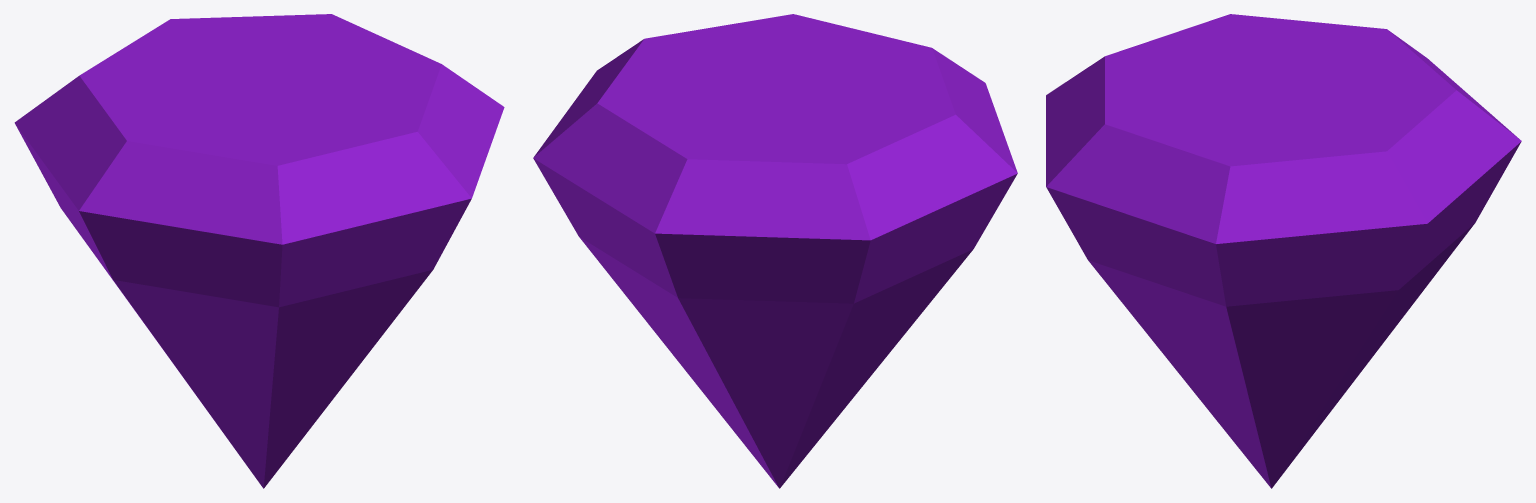
Rendered from Gem.fbx.
The picture shows the model from 3 angles, left to right: view 1: azimuth 30°, elevation 25°; view 2: azimuth 150°, elevation 25°; view 3: azimuth 270°, elevation 25°; orthographic projection.
Parts seen in each view (by area): view 1: Cone; view 2: Cone; view 3: Cone.
Boxes of the visible parts, x1,y1,x2,y2 form: Cone: [14, 14, 504, 488]; Cone: [533, 14, 1017, 488]; Cone: [1046, 14, 1521, 488].
Size of the model in its own units: 60.28 by 54.35 by 58.77.
